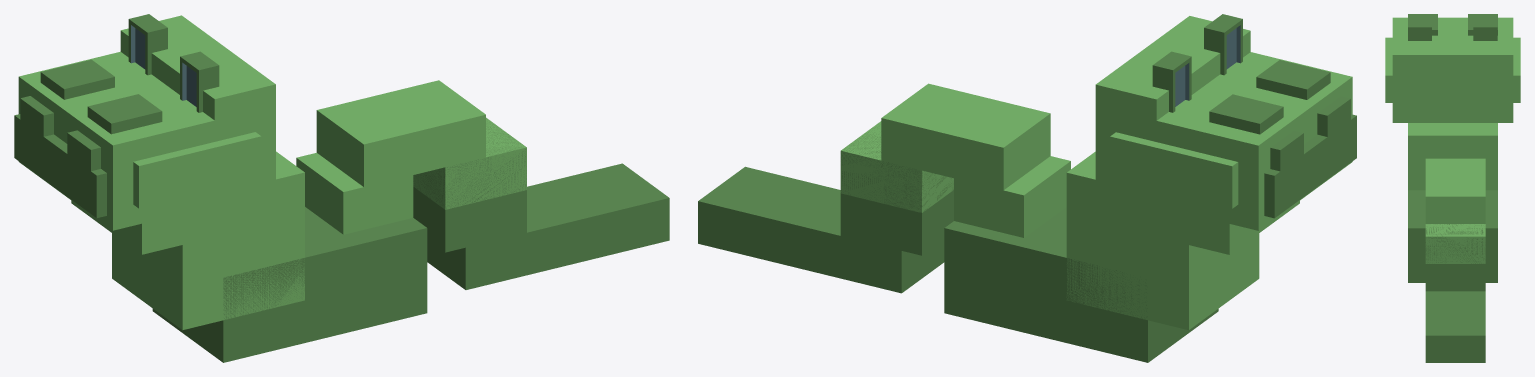
Rendered from Snake.dae.
3 views of the same model, side by side, from view 1: azimuth 30°, elevation 25°; view 2: azimuth 150°, elevation 25°; view 3: azimuth 270°, elevation 25° (orthographic). The views are drawn at different scales.
Visible parts, largest first — view 1: group_4 (×9), group_0, group_1, group_5, group_3, group_2 (×2), group_6; view 2: group_4 (×9), group_1, group_0, group_5, group_3, group_2 (×2), group_6; view 3: group_4 (×7), group_3, group_1, group_2 (×2), group_5, group_0, group_6.
Part boxes in pixels (x1=…): group_4 (×9): x1=14, y1=14, x2=275, y2=230; group_0: x1=152, y1=207, x2=427, y2=362; group_1: x1=112, y1=151, x2=304, y2=330; group_5: x1=296, y1=80, x2=485, y2=234; group_3: x1=427, y1=163, x2=669, y2=289; group_2 (×2): x1=413, y1=117, x2=526, y2=252; group_6: x1=71, y1=194, x2=263, y2=254; group_4 (×9): x1=1095, y1=14, x2=1356, y2=230; group_1: x1=1066, y1=151, x2=1259, y2=330; group_0: x1=944, y1=207, x2=1218, y2=362; group_5: x1=881, y1=83, x2=1070, y2=237; group_3: x1=698, y1=166, x2=944, y2=293; group_2 (×2): x1=840, y1=121, x2=953, y2=255; group_6: x1=1110, y1=195, x2=1299, y2=254; group_4 (×7): x1=1385, y1=14, x2=1520, y2=122; group_3: x1=1425, y1=291, x2=1485, y2=362; group_1: x1=1408, y1=123, x2=1497, y2=190; group_2 (×2): x1=1425, y1=224, x2=1485, y2=291; group_5: x1=1425, y1=158, x2=1485, y2=223; group_0: x1=1408, y1=190, x2=1497, y2=282; group_6: x1=1408, y1=95, x2=1497, y2=121.
Size of the model in its own units: 572 by 177 by 276.
